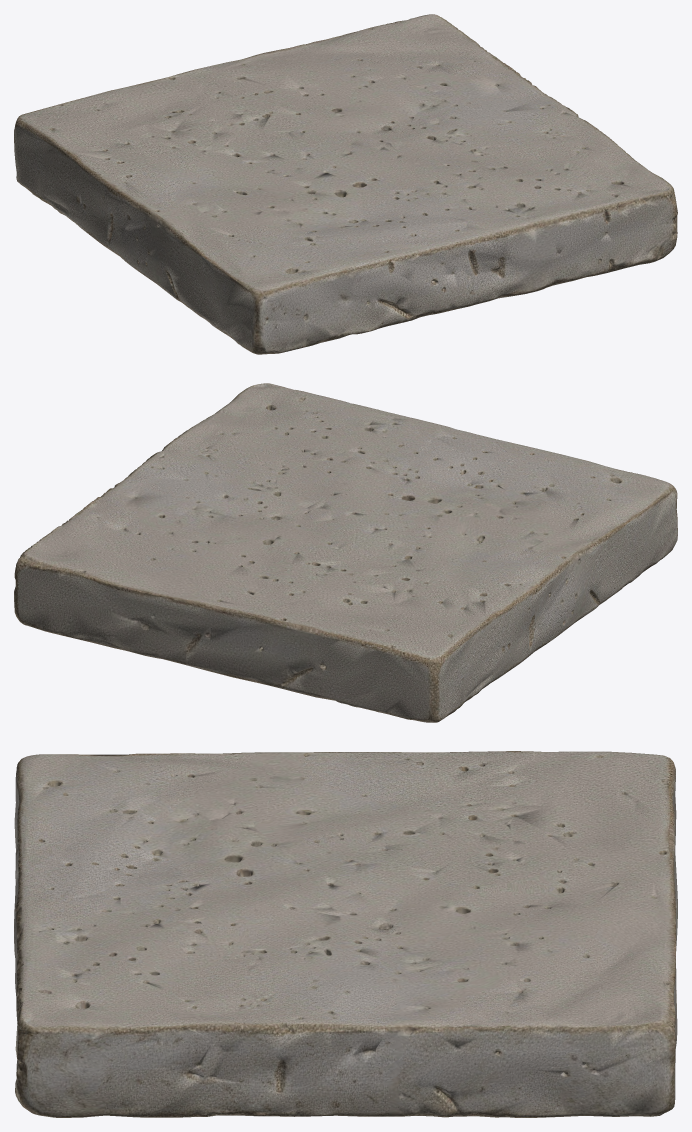
The model's file is pnl_slat.glb.
3 renders of one model, top to bottom at view 1: azimuth 30°, elevation 25°; view 2: azimuth 150°, elevation 25°; view 3: azimuth 270°, elevation 25°, orthographic. The views are drawn at different scales.
Parts seen in each view (by area): view 1: tripo_node_7273629e-ee3f-4da5-a77a-b1927d6b4c12; view 2: tripo_node_7273629e-ee3f-4da5-a77a-b1927d6b4c12; view 3: tripo_node_7273629e-ee3f-4da5-a77a-b1927d6b4c12.
Boxes of the visible parts, x1,y1,x2,y2 form: tripo_node_7273629e-ee3f-4da5-a77a-b1927d6b4c12: [14, 14, 677, 354]; tripo_node_7273629e-ee3f-4da5-a77a-b1927d6b4c12: [14, 383, 677, 722]; tripo_node_7273629e-ee3f-4da5-a77a-b1927d6b4c12: [14, 751, 677, 1117].
Size of the model in its own units: 0.3038 by 0.0499 by 0.3041.
Materials: 1 (1 with a texture image).
